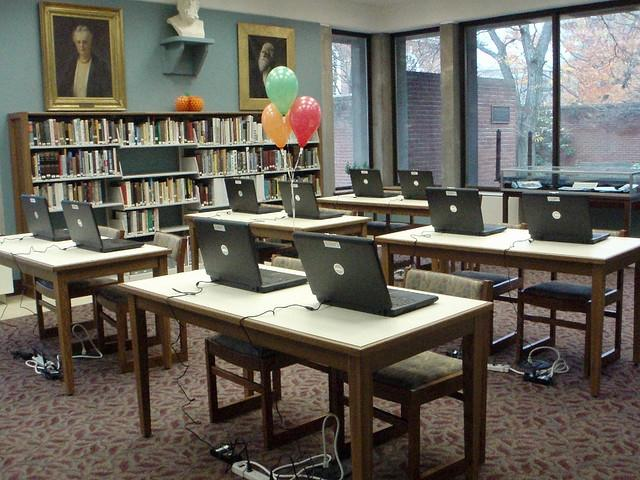pumpkin: (174, 92, 204, 112)
